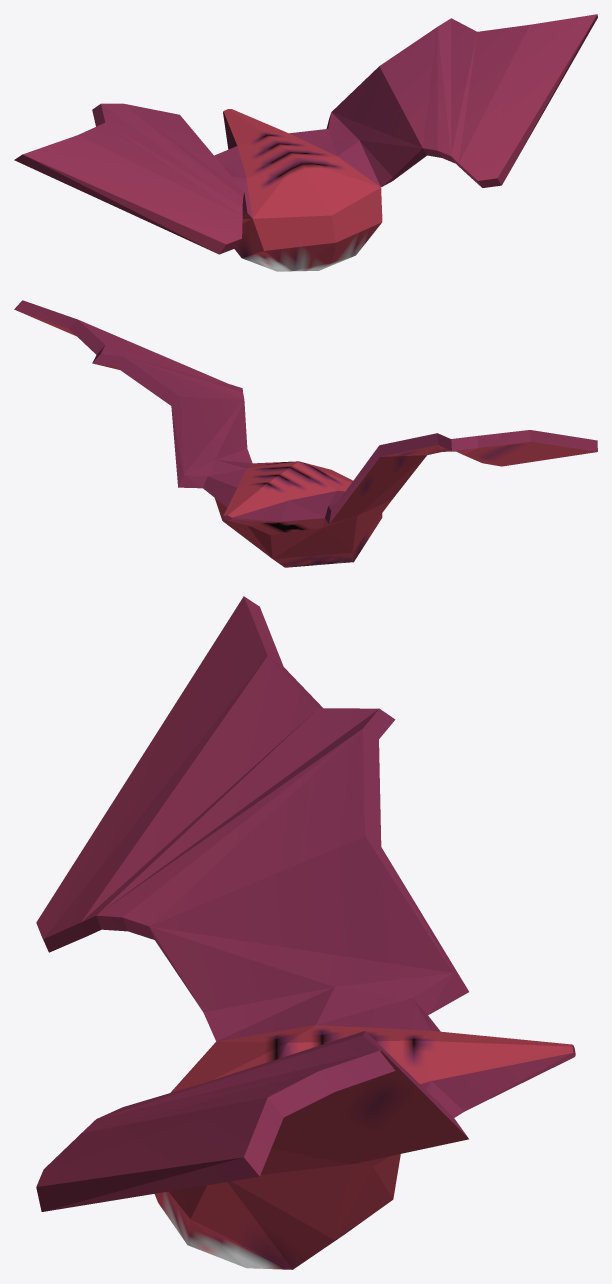
The model's file is bigOlBat_heroic.obj.
3 renders of one model, top to bottom at view 1: azimuth 30°, elevation 25°; view 2: azimuth 150°, elevation 25°; view 3: azimuth 270°, elevation 25°, orthographic. The views are drawn at different scales.
Parts seen in each view (by area): view 1: Sphere; view 2: Sphere; view 3: Sphere.
Part boxes in pixels (box(x1,y1,x2,y2)): Sphere: box(14, 14, 597, 271); Sphere: box(14, 300, 597, 567); Sphere: box(36, 596, 575, 1269).
Bounding box in the file's own units: 9.53 × 2.9 × 3.81.
Materials: 1 (1 with a texture image).
